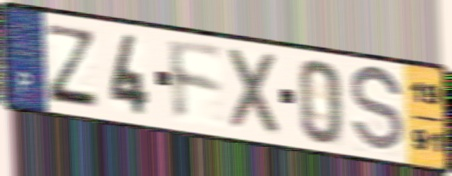0: (297, 57, 344, 147)
4: (108, 32, 151, 117)
F: (165, 36, 227, 125)
S: (348, 64, 407, 157)
X: (226, 44, 284, 139)
Z: (45, 20, 101, 111)
